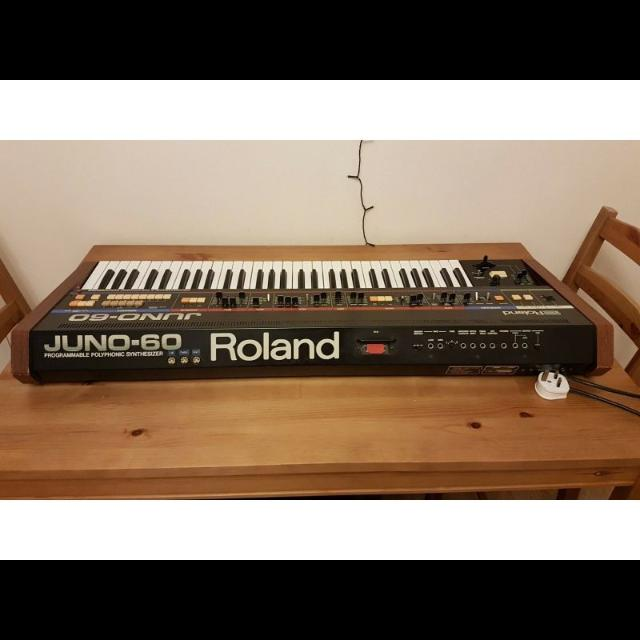Electronic-Keyboard: (11, 228, 626, 388)
